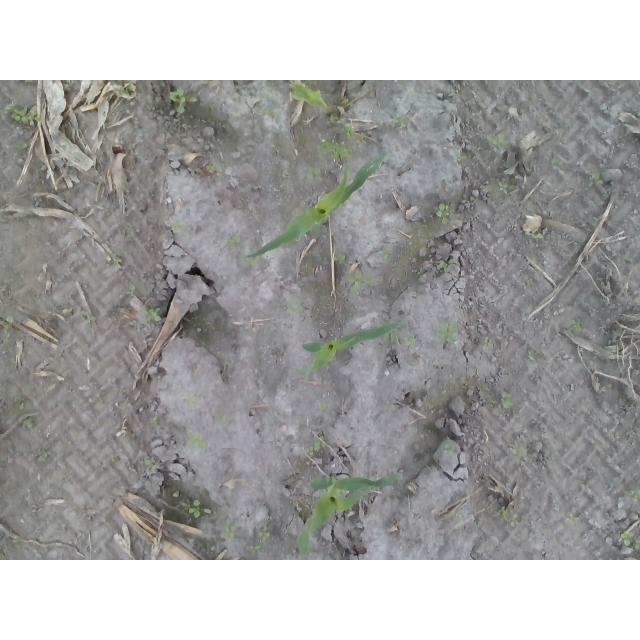Maize: (249, 156, 383, 258), (292, 474, 403, 555), (302, 320, 403, 378), (287, 80, 330, 114)
Weeds: (3, 102, 42, 127), (342, 268, 375, 295), (168, 86, 198, 114), (321, 141, 357, 160), (436, 319, 459, 344), (496, 505, 521, 527), (617, 531, 640, 553), (179, 496, 201, 518), (348, 124, 369, 145), (304, 436, 324, 457), (0, 314, 16, 339), (222, 520, 240, 541), (432, 202, 448, 225), (142, 306, 162, 323), (498, 392, 514, 411), (587, 172, 606, 188), (485, 134, 508, 147), (142, 456, 160, 472), (187, 432, 205, 448), (514, 447, 529, 465), (391, 115, 410, 129), (224, 235, 240, 251), (120, 80, 136, 96), (306, 167, 323, 182), (384, 331, 400, 346), (257, 526, 272, 542), (623, 488, 640, 502), (15, 142, 28, 160), (565, 513, 580, 528), (402, 337, 416, 353), (437, 259, 452, 273), (441, 441, 455, 455), (568, 319, 583, 332), (113, 384, 128, 397), (327, 113, 340, 127), (525, 231, 545, 240), (497, 181, 509, 196), (298, 365, 314, 376), (207, 164, 226, 173), (483, 339, 496, 352), (245, 256, 259, 268), (529, 351, 543, 362), (23, 415, 34, 429), (451, 153, 465, 163), (246, 544, 262, 552), (335, 254, 347, 264), (319, 400, 329, 412), (150, 415, 161, 425), (286, 304, 298, 313), (176, 220, 184, 233), (265, 108, 276, 117), (14, 399, 22, 410), (64, 308, 72, 317), (127, 286, 134, 294)
